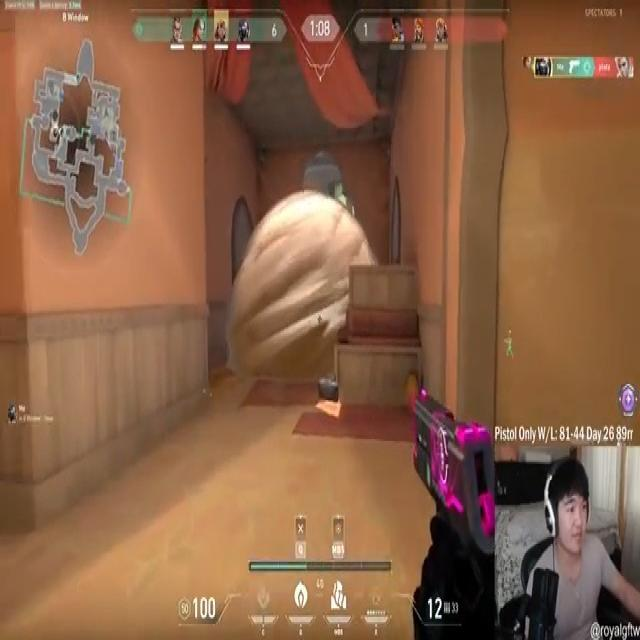smoke: (229, 194, 378, 368)
spike: (316, 373, 342, 415)
